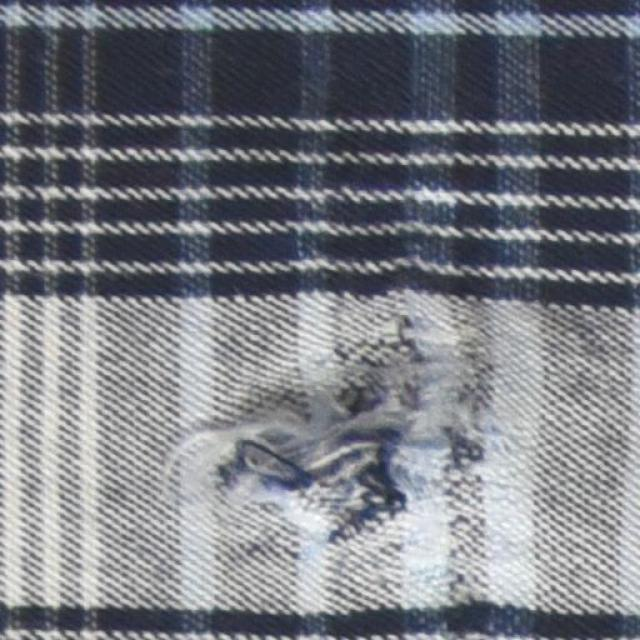Snag: (165, 317, 466, 566)
